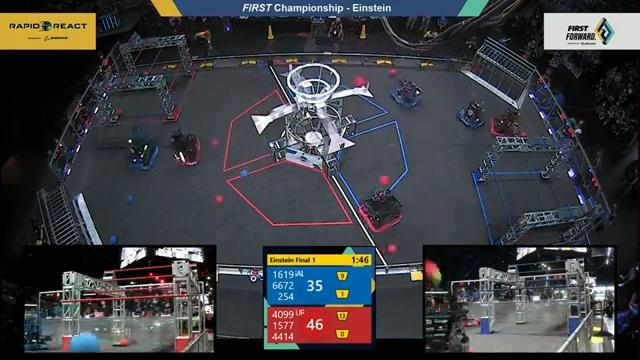robot: (357, 185, 404, 235), (125, 128, 159, 172), (169, 126, 203, 169), (389, 76, 425, 113), (488, 106, 523, 139), (456, 99, 487, 130)
